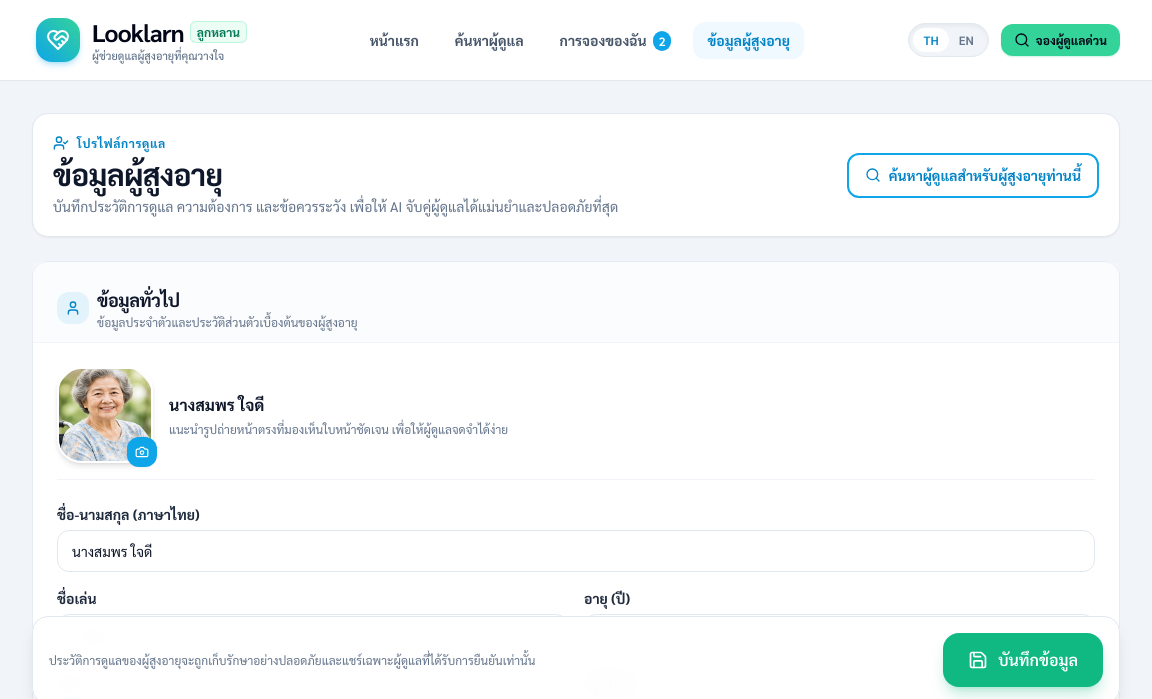
Tier 1: Core Feature Coverage across 7 Routes & Components › Feature 8: Elder Profile (/elder-profile) › 8.5 should show success toast notification upon saving changes
What coordinates should you click on to do the following:
click the button "บันทึกข้อมูล"
I would click on:
 (1023, 660)
Its box is [943, 633, 1103, 687].
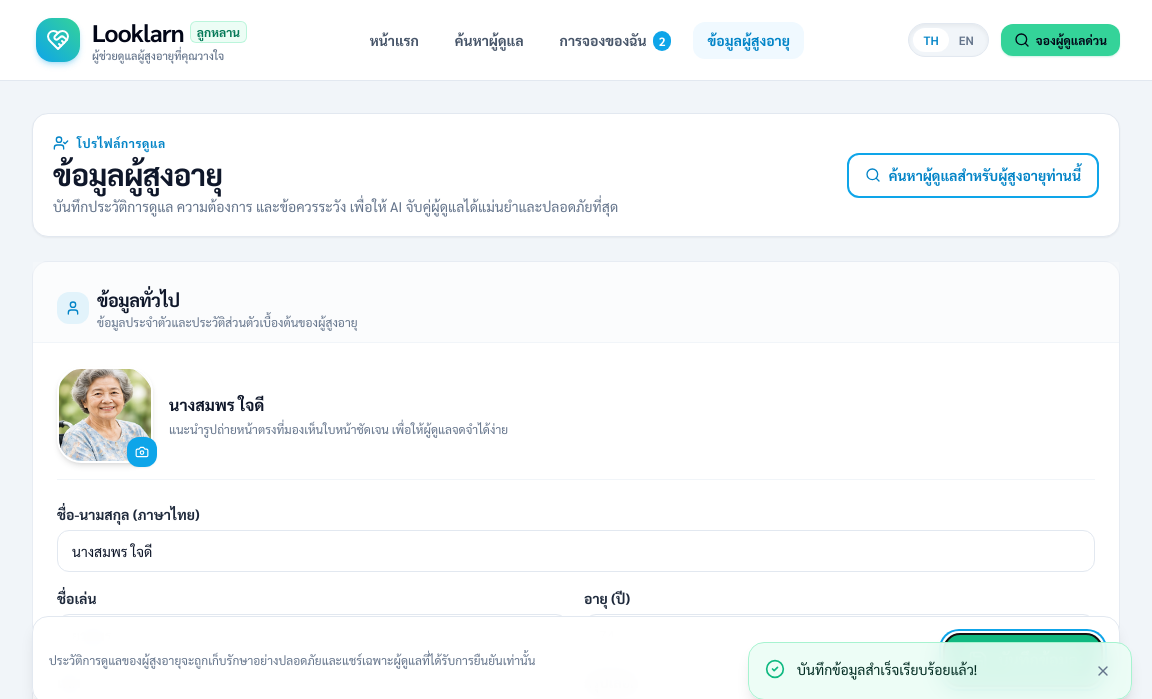
expect the text "บันทึกข้อมูลสำเร็จเรียบร้อยแล้ว!" is shown: met, box [797, 660, 977, 678]
